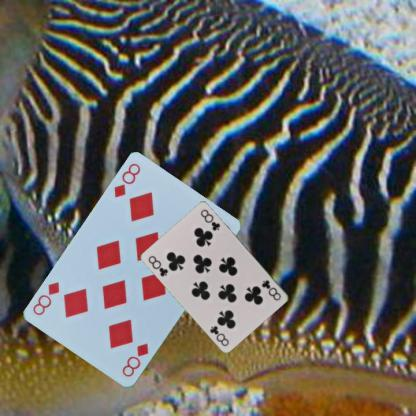8c: (146, 253, 169, 278), (260, 277, 282, 302)
8d: (119, 341, 150, 379), (111, 161, 142, 199)
